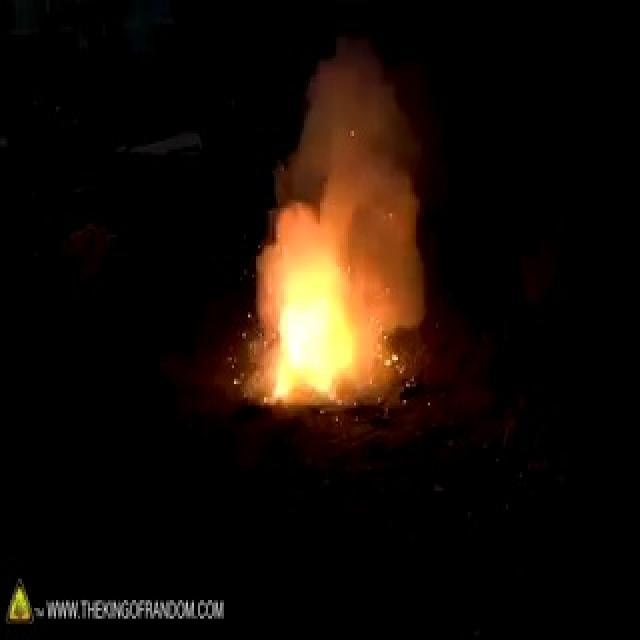Fire: (251, 256, 375, 416)
